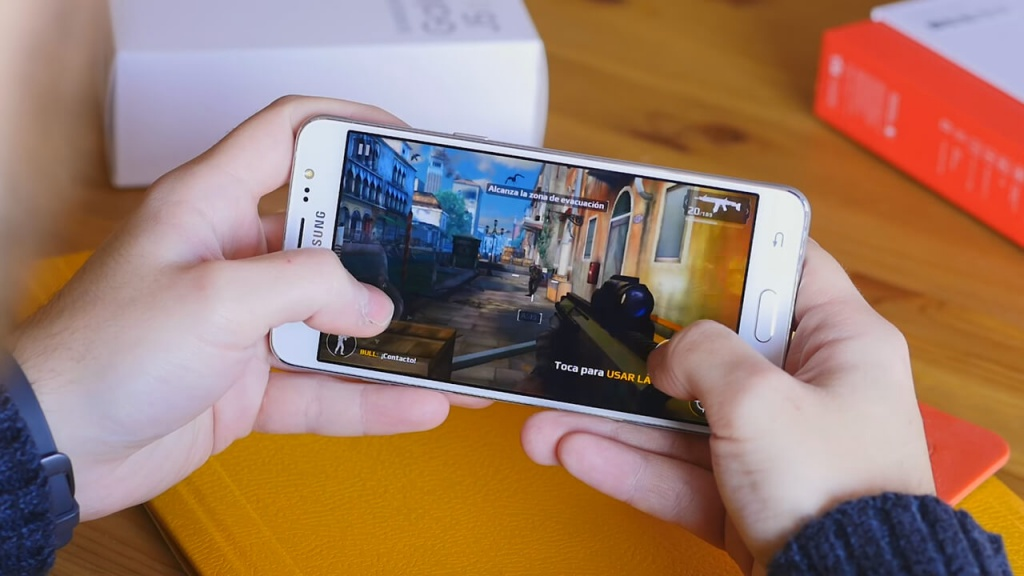smartphone: (265, 112, 811, 436)
